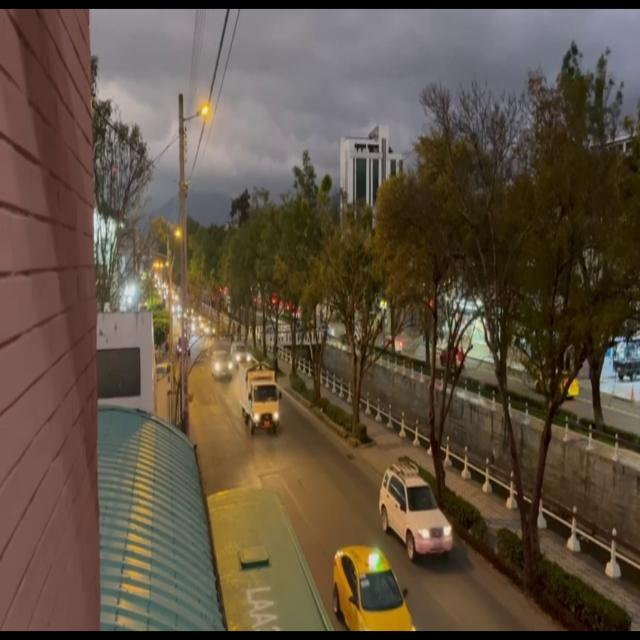SED: (336, 550, 415, 637)
SUV: (384, 470, 452, 554), (212, 350, 232, 381)
TRUCK: (241, 367, 281, 435)
